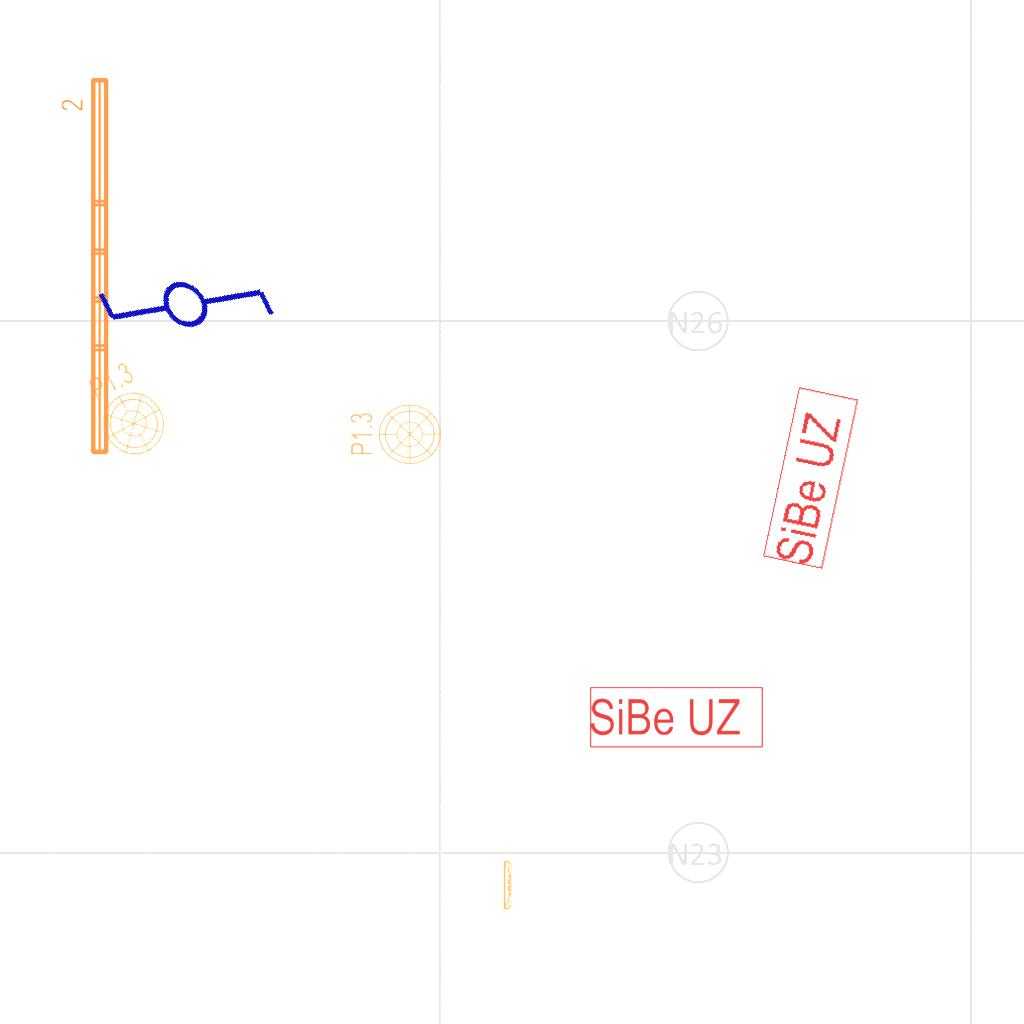Ambulanz_Pendelleuchte_LED: (59, 73, 115, 460)
Aufbaurundleuchte_LED_Treppenhaus: (73, 345, 183, 468), (341, 397, 443, 466)
Sicherheitsleuchte_Wandeinbau: (502, 858, 514, 937)
Wechselschalter: (75, 190, 288, 404)
Zentrale_Sicherheitsbeleuchtung: (760, 383, 862, 572), (588, 685, 766, 750)
